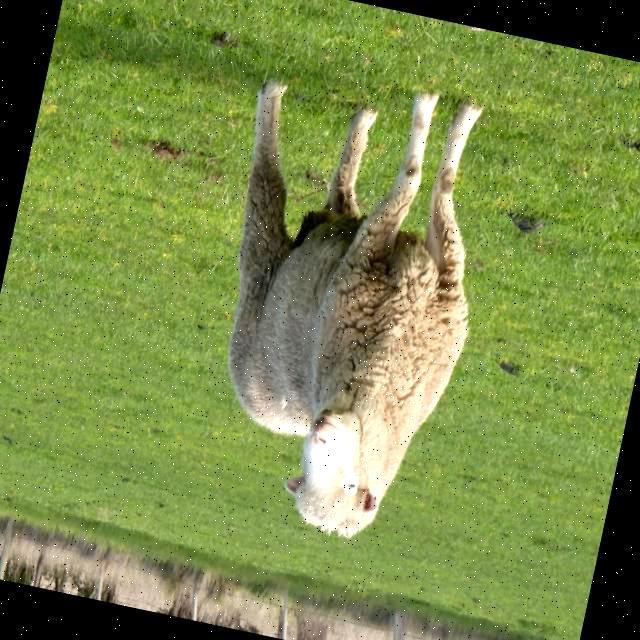sheep: (227, 81, 481, 538)
